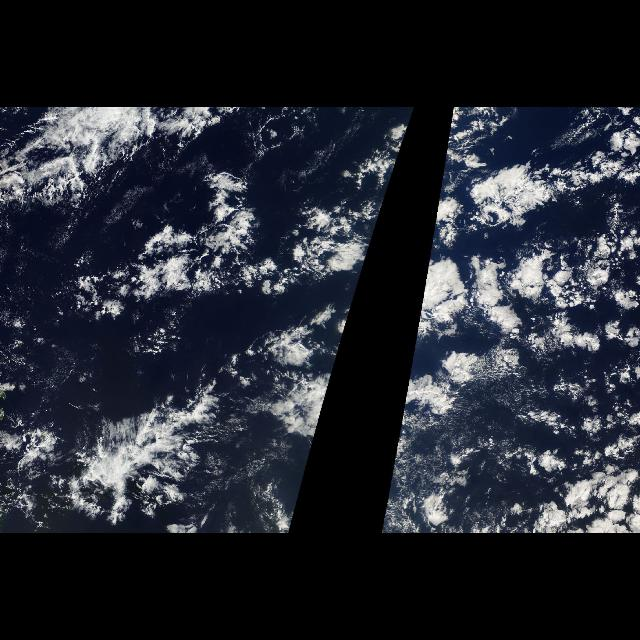Fish: (37, 390, 293, 518)
Flower: (408, 163, 636, 532)
